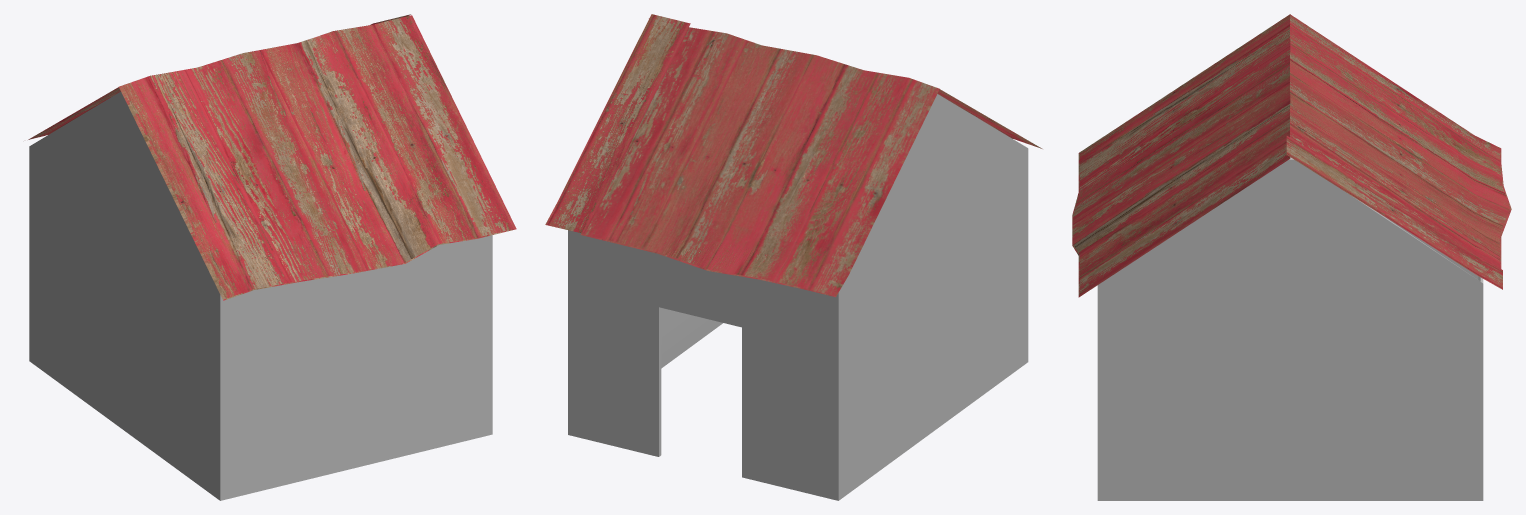
Rendered from House_02_Lod0.fbx.
The picture shows the model from 3 angles, left to right: view 1: azimuth 30°, elevation 25°; view 2: azimuth 150°, elevation 25°; view 3: azimuth 270°, elevation 25°; orthographic projection.
Parts seen in each view (by area): view 1: House_02_Lod0; view 2: House_02_Lod0; view 3: House_02_Lod0.
Boxes of the visible parts, bbox=[...] form: House_02_Lod0: bbox=[28, 14, 516, 500]; House_02_Lod0: bbox=[545, 14, 1042, 500]; House_02_Lod0: bbox=[1072, 14, 1511, 500].
Bounding box in the file's own units: 372 × 423 × 477.
